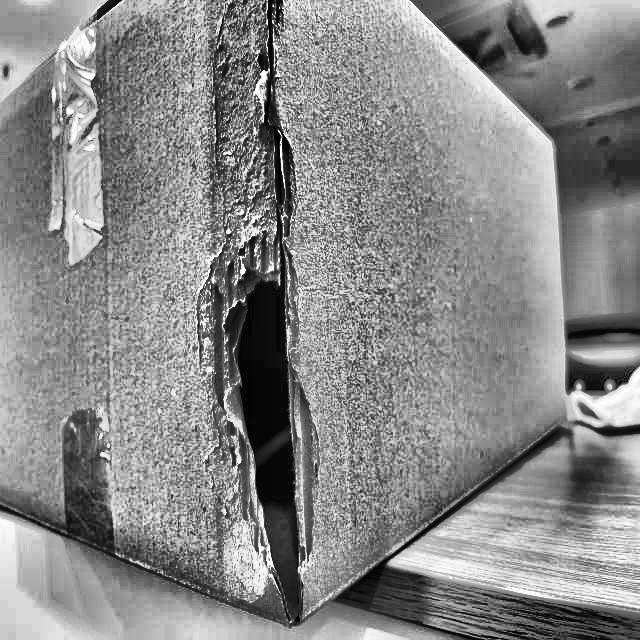box: (1, 0, 574, 635)
hole: (228, 279, 322, 625)
